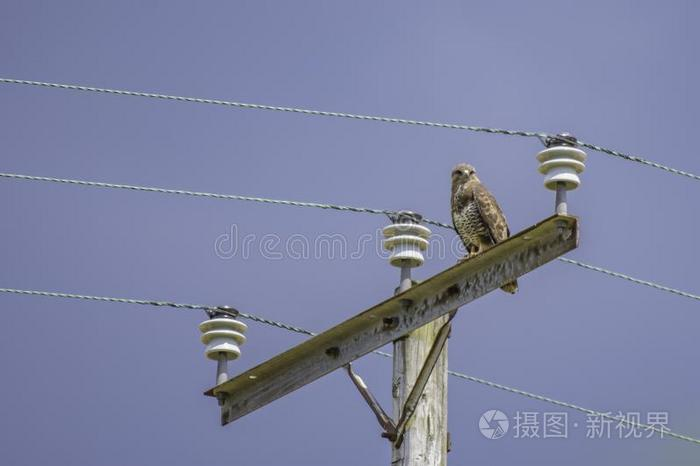insulator: (529, 144, 592, 189), (381, 221, 431, 268), (198, 314, 249, 357)
